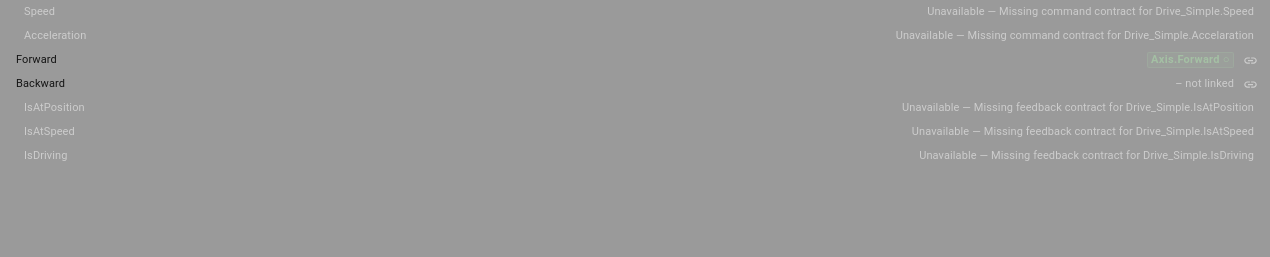
Test: inline empty slot rows (plan-325 9.5) › opens the two-group picker and binds an internal model signal (live, no provider)
Click the button named "signal for Backward" at x=1250, y=84, box [1238, 72, 1262, 96]
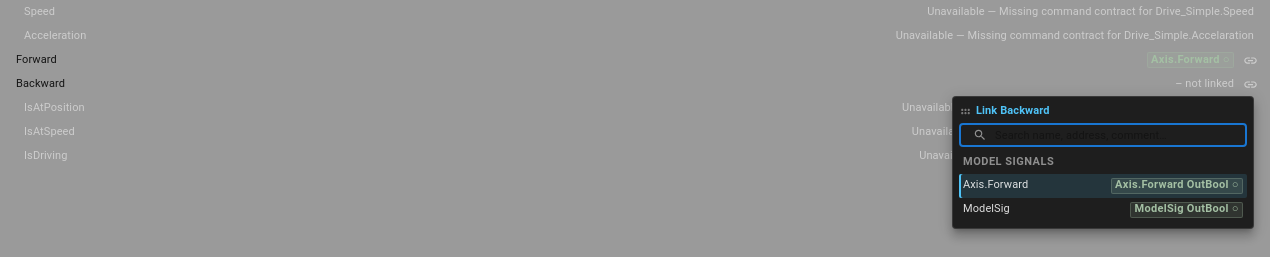
Expected: the dropdown with placeholder "Search name, address, comment…" is shown, [995, 124, 1247, 147]
Expected: the text "Model signals" is shown, [963, 154, 1054, 171]
Click the option "ModelSig ModelSig OutBool ○" at x=986, y=209, box [959, 198, 1247, 222]
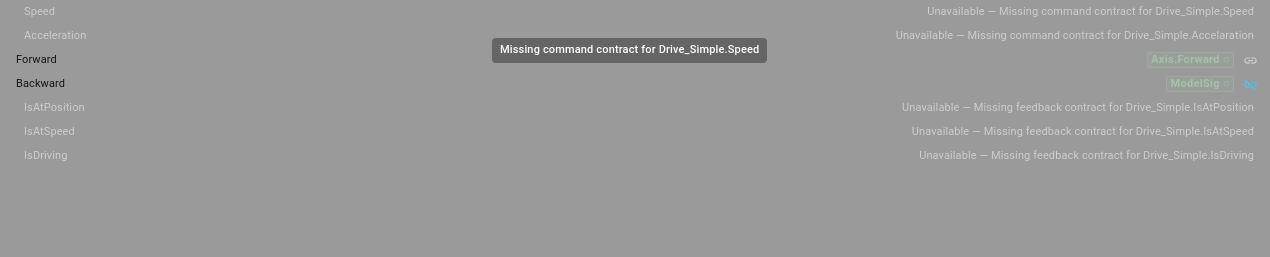
Expected: the button named "unbind Backward" is shown, [1238, 72, 1262, 96]
